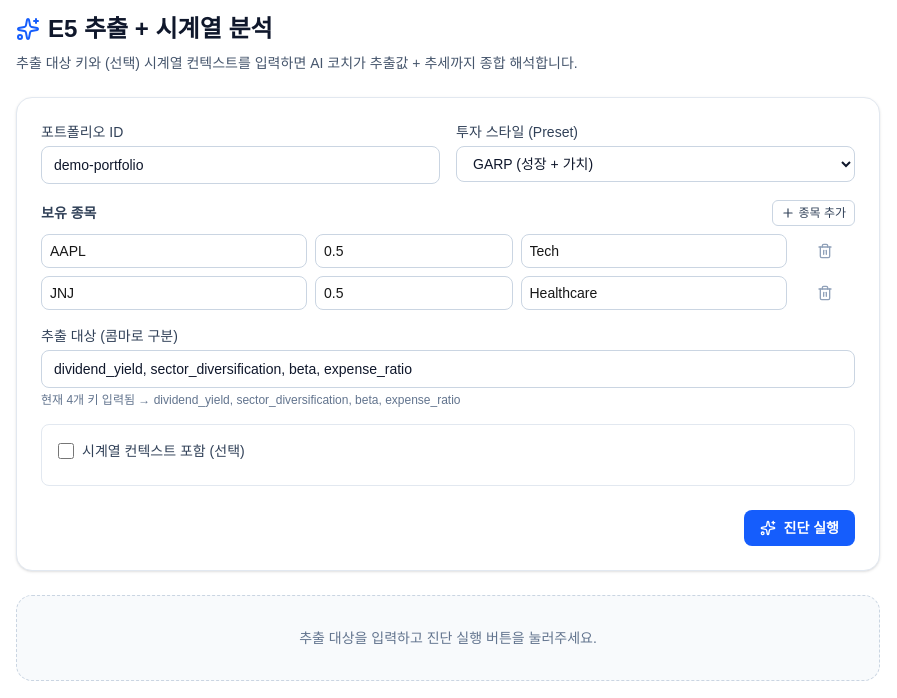
E5 coach page (E5CoachContent) › 폼 검증: extraction_targets 비우면 submit disabled
This screenshot has width=897, height=698.
Clear the field labelled "추출 대상". click: (448, 369)
box: [41, 350, 855, 388]
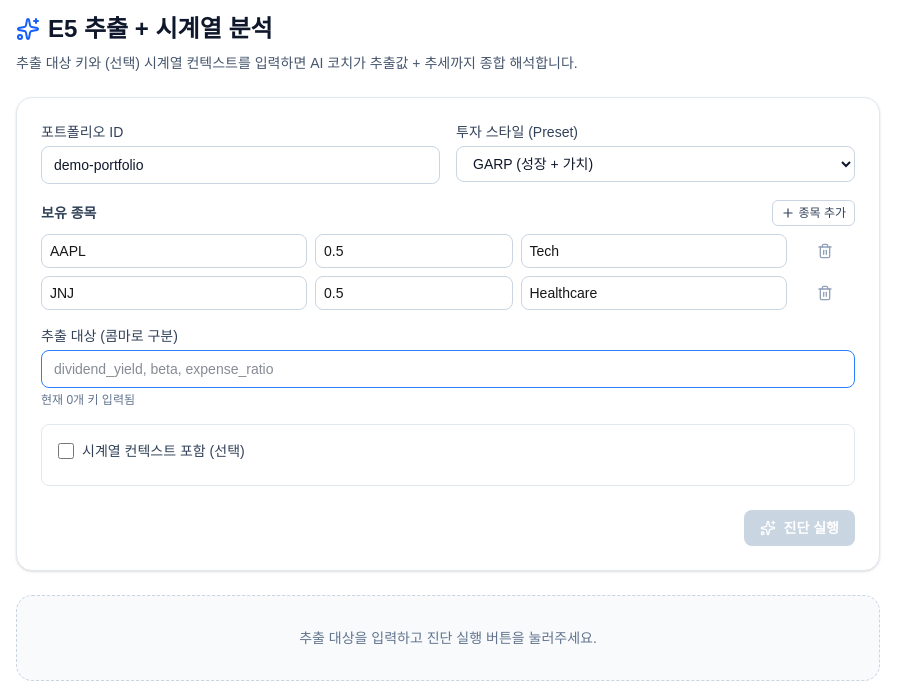
Expected: the button "진단 실행" is disabled, [744, 510, 855, 546]
Expected: the text "현재 0개 키 입력됨" is shown, [41, 393, 135, 407]
